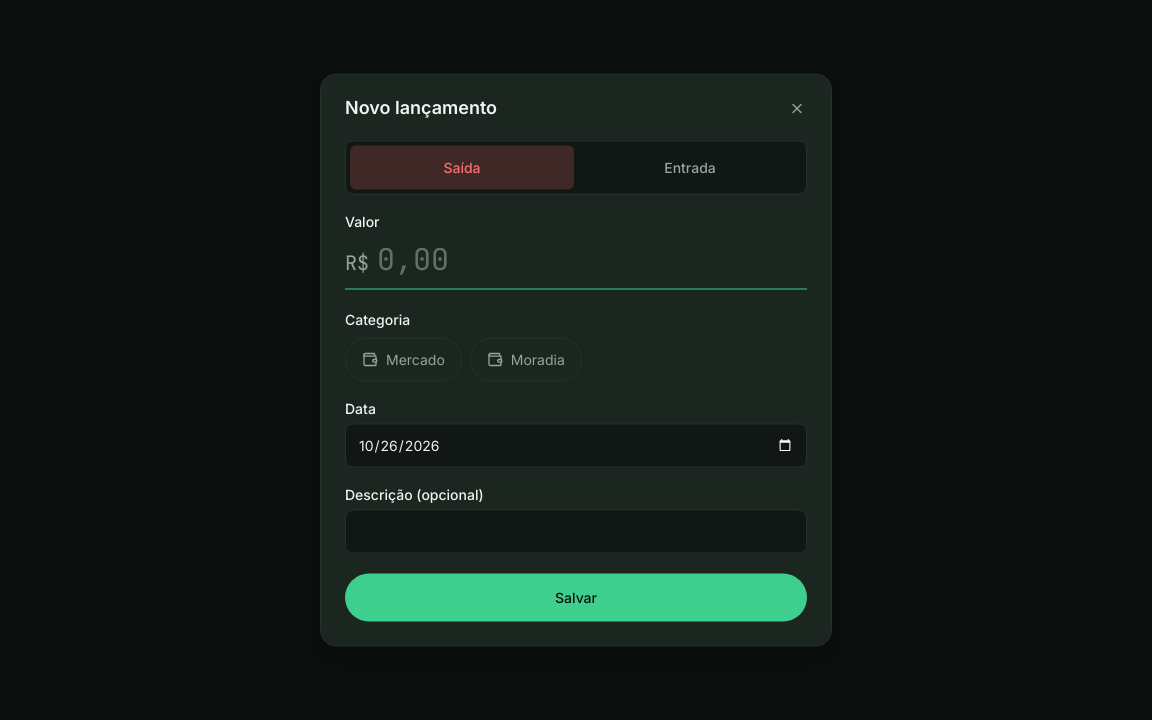
Scenario: TransactionSheet › bloqueia o submit com valor inválido
Type "abc" into the field labelled "Valor".
click(592, 258); type("abc")  # box [377,236,807,280]
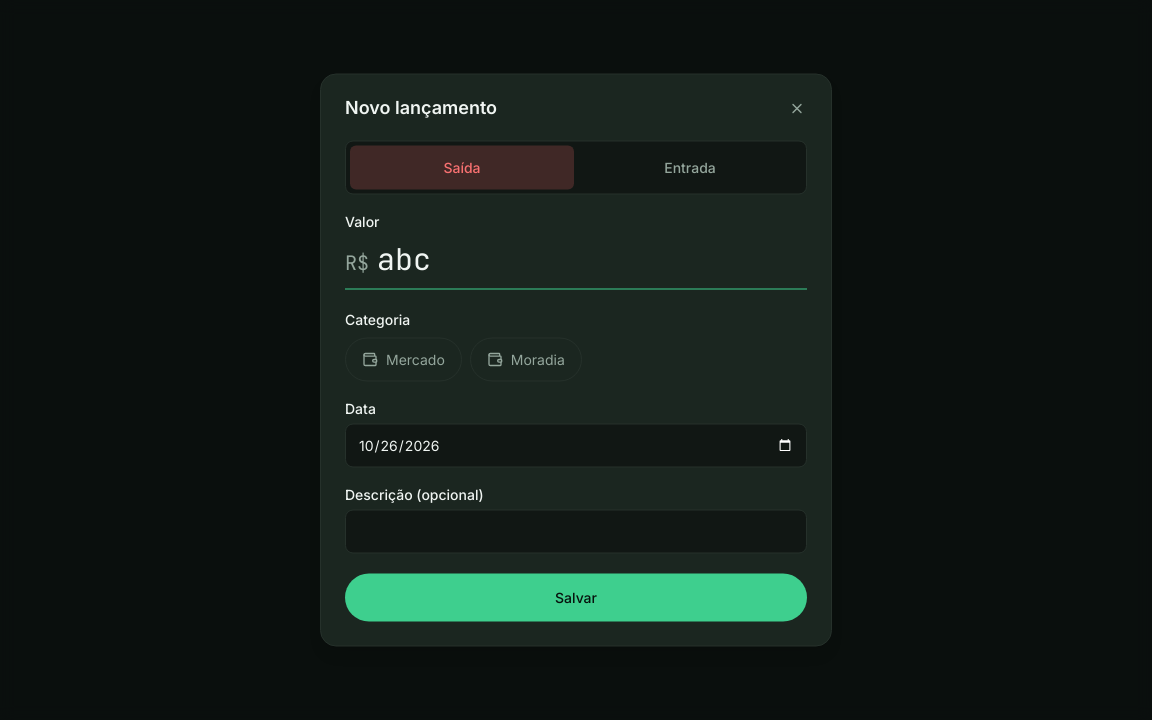
Click the radio button labelled "Mercado".
click(403, 360)  # box [345,338,462,382]
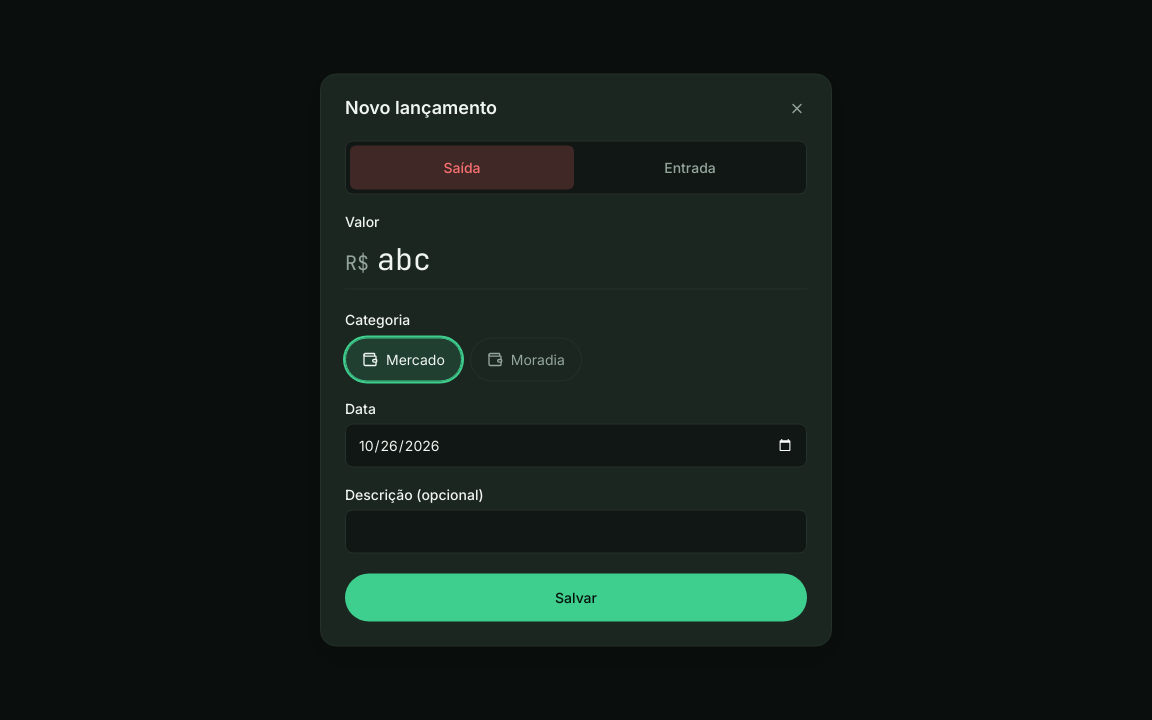
Click the button "Salvar".
click(576, 598)  # box [345,574,807,622]
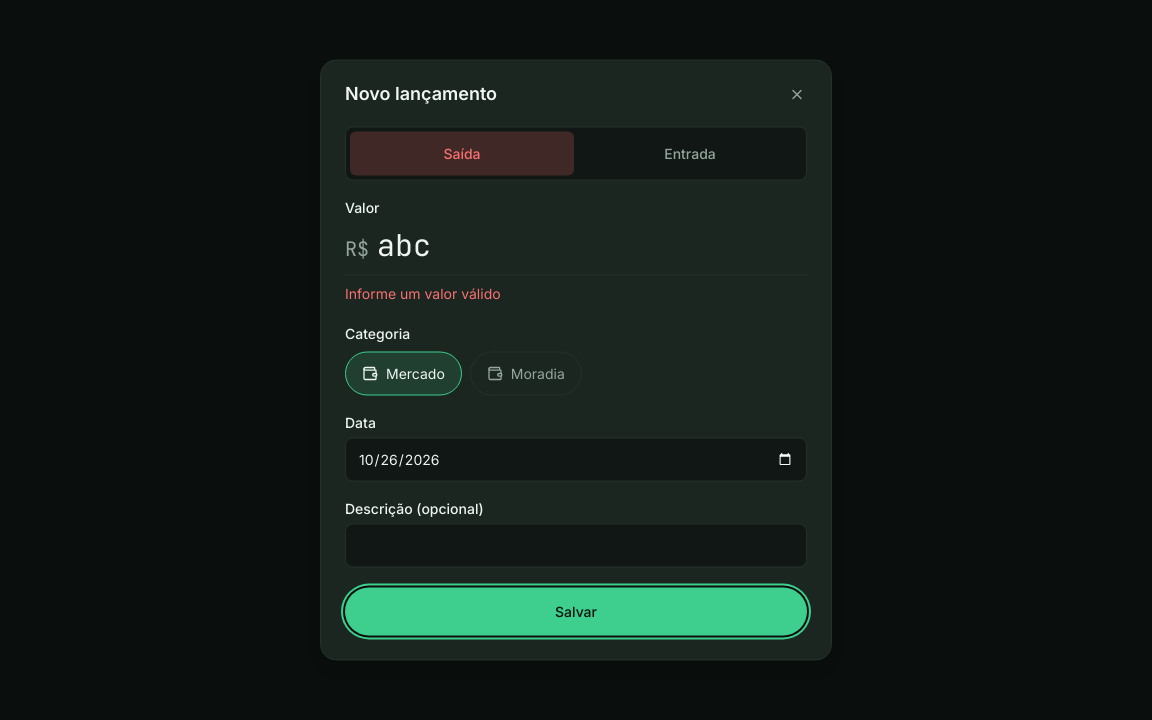
Expected: the text "Informe um valor válido" is shown, [345,284,501,302]
